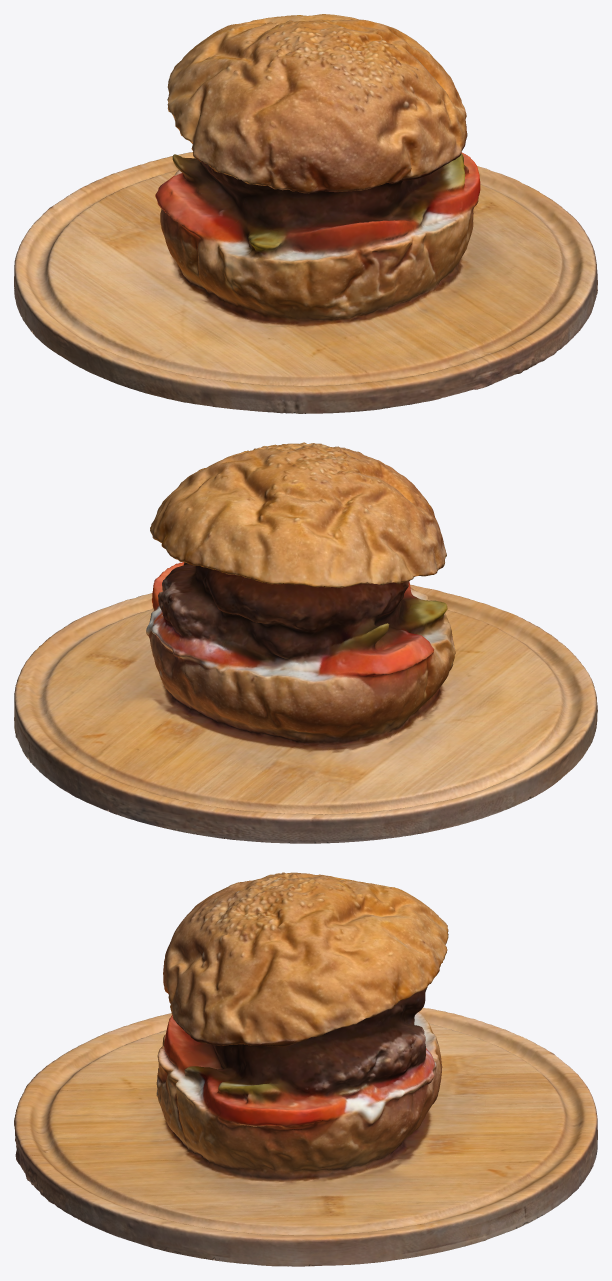
The model's file is Double.burger.glb.
3 views of the same model, one above another, from view 1: azimuth 30°, elevation 25°; view 2: azimuth 150°, elevation 25°; view 3: azimuth 270°, elevation 25° (orthographic).
Visible parts, largest first — view 1: 3DModel; view 2: 3DModel; view 3: 3DModel.
Boxes of the visible parts, bbox=[...] form: 3DModel: bbox=[14, 14, 597, 413]; 3DModel: bbox=[14, 442, 597, 843]; 3DModel: bbox=[14, 872, 597, 1266].
Size of the model in its own units: 0.3324 by 0.1627 by 0.3314.
Materials: 1 (1 with a texture image).
